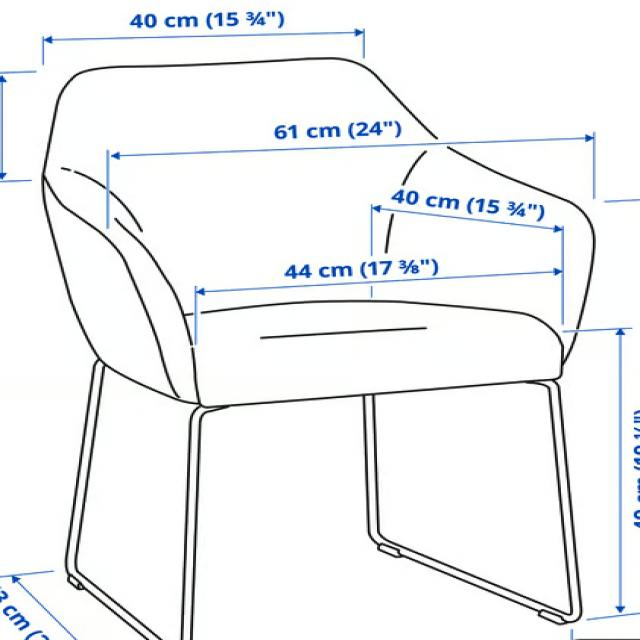Armrest: (376, 135, 600, 373), (40, 171, 201, 411)
Backrest: (42, 58, 433, 317)
Leg_Structure: (48, 343, 588, 638)
Seat: (181, 297, 567, 410)
